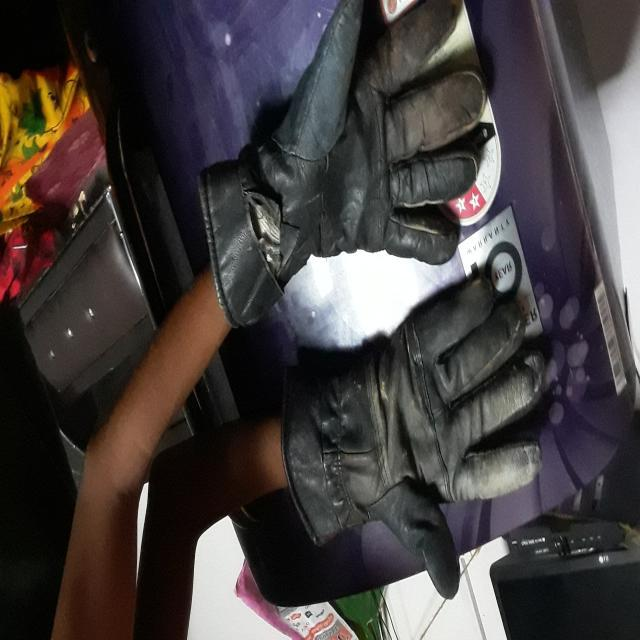gloved_hand: (262, 268, 568, 601), (191, 8, 492, 325)
